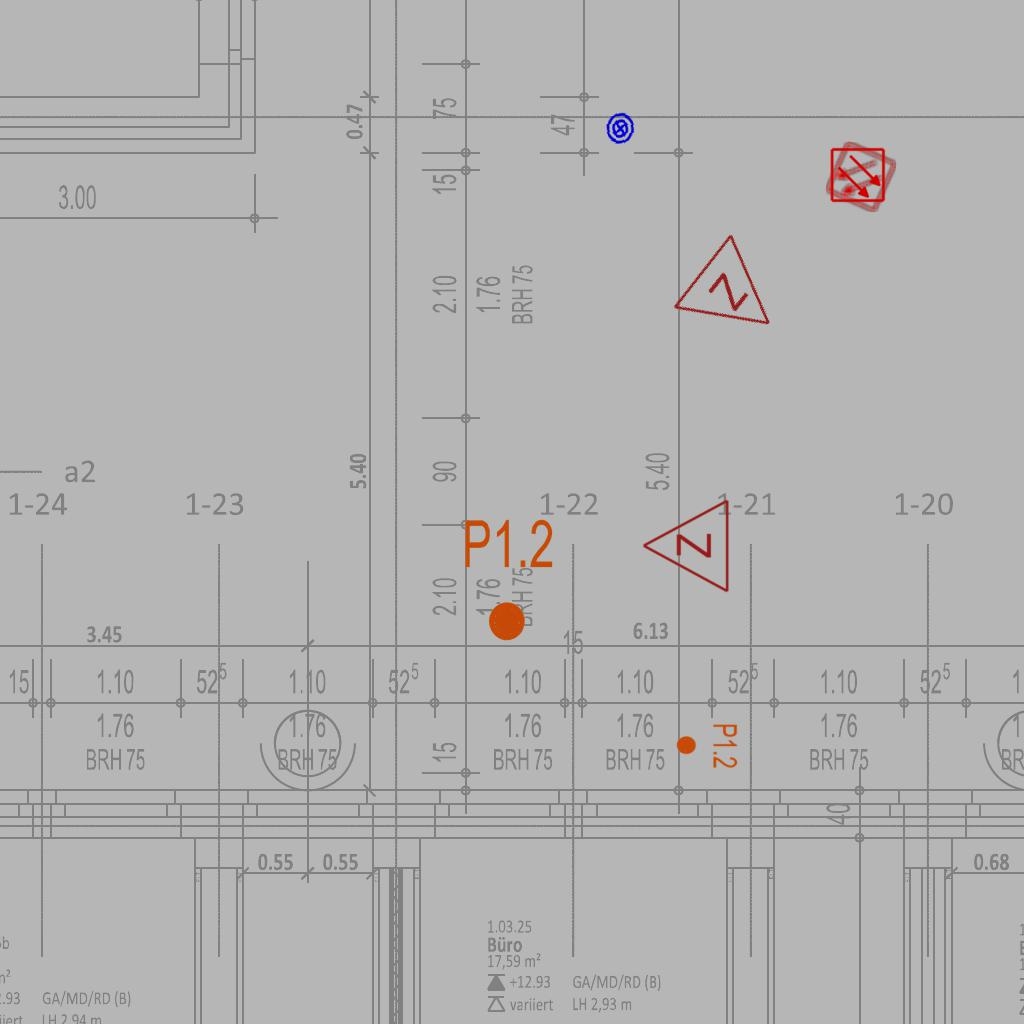Downlight_LED_Einbauleuchten_Flur: (462, 516, 555, 644), (675, 723, 739, 769)
RMO_Rauchmelder_optischer: (824, 140, 898, 214), (830, 147, 886, 203)
Taster_beleuchtet: (602, 110, 639, 147)
Zimmersignalleuchte: (666, 226, 806, 366), (636, 498, 736, 596)
